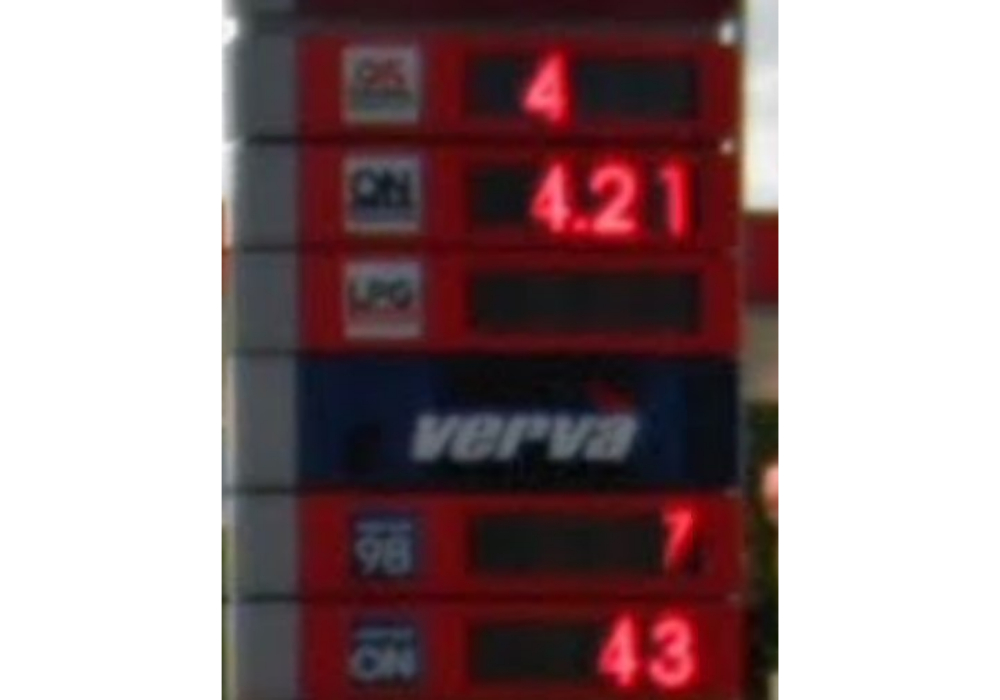LPG: (336, 257, 424, 338)
ON: (340, 153, 422, 236), (346, 614, 422, 688)
PB95: (340, 45, 423, 129)
PB98: (347, 504, 421, 584)
